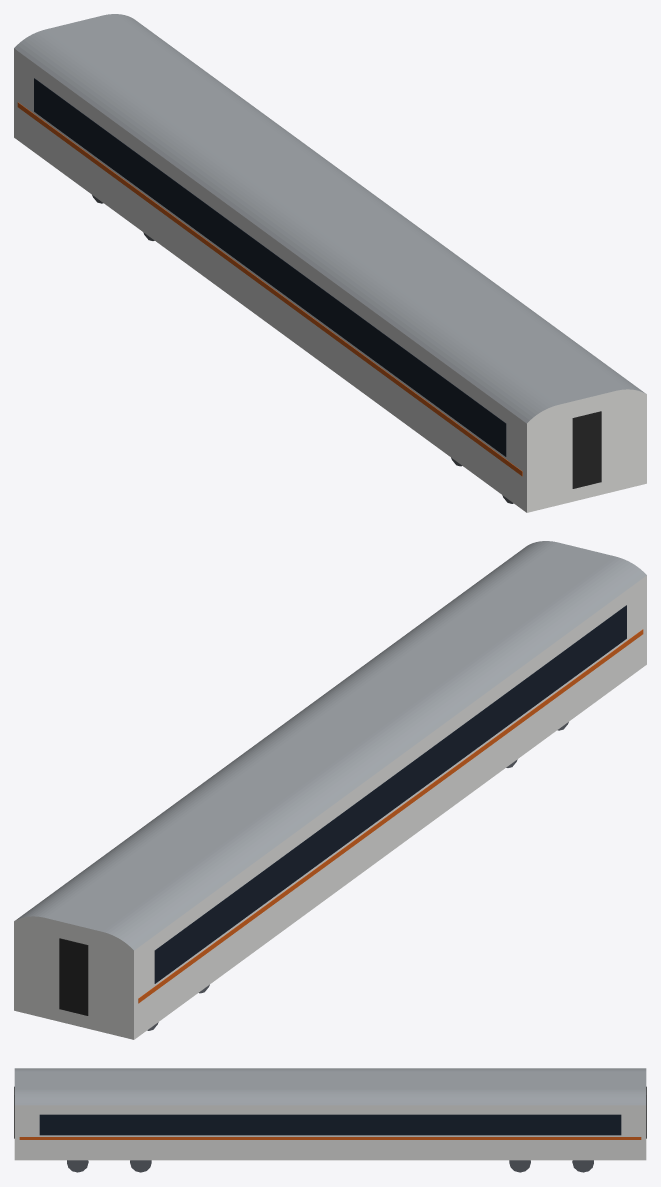
File: ENV_CarBody.fbx
3 views of the same model, one above another, from view 1: azimuth 30°, elevation 25°; view 2: azimuth 150°, elevation 25°; view 3: azimuth 270°, elevation 25° (orthographic). The views are drawn at different scales.
Visible parts, largest first — view 1: ENV_CarBody, WindowBand_L, OrangeBand_L, EndDoor_S; view 2: ENV_CarBody, WindowBand_L, OrangeBand_L, EndDoor_N; view 3: ENV_CarBody, WindowBand_R, OrangeBand_R, Bogie_N, Bogie_S.
Part boxes in pixels (left/top/right/bottom): ENV_CarBody: left=14, top=14, right=646, bottom=512; WindowBand_L: left=34, top=78, right=506, bottom=456; OrangeBand_L: left=17, top=102, right=522, bottom=476; EndDoor_S: left=572, top=411, right=601, bottom=488; ENV_CarBody: left=14, top=541, right=646, bottom=1039; WindowBand_L: left=154, top=605, right=626, bottom=983; OrangeBand_L: left=138, top=629, right=643, bottom=1003; EndDoor_N: left=59, top=938, right=88, bottom=1015; ENV_CarBody: left=14, top=1068, right=646, bottom=1160; WindowBand_R: left=39, top=1114, right=621, bottom=1135; OrangeBand_R: left=19, top=1137, right=641, bottom=1139; Bogie_N: left=509, top=1160, right=593, bottom=1172; Bogie_S: left=67, top=1160, right=151, bottom=1172.
Size of the model in its own units: 3.4 by 3.65 by 25.04.
Materials: 5 (5 with a texture image).
